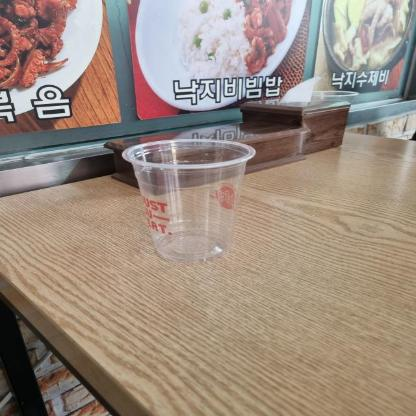Plastic Cup: (120, 136, 256, 264)
